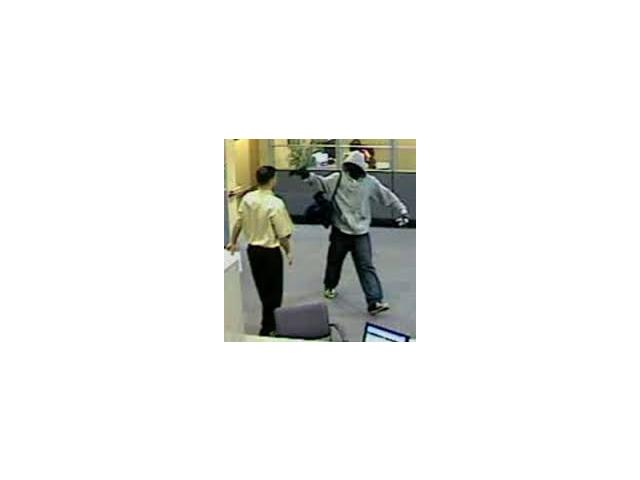pistol: (288, 167, 316, 185)
